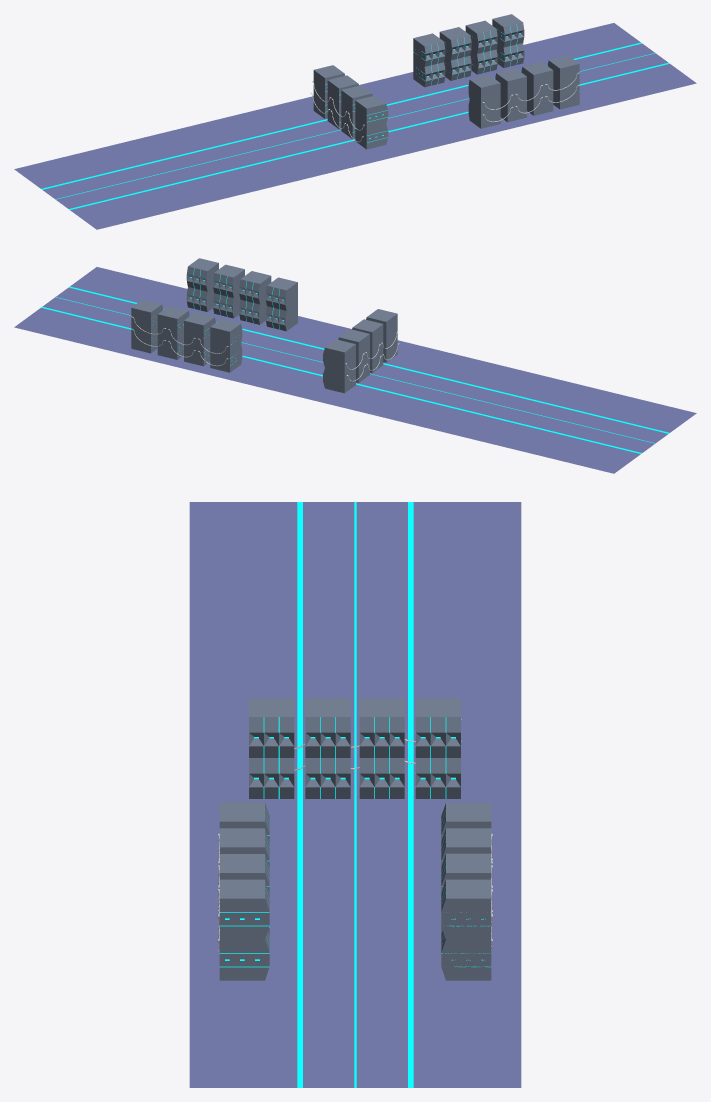
Rendered from Server.fbx.
The picture shows the model from 3 angles, top to bottom: view 1: azimuth 30°, elevation 25°; view 2: azimuth 150°, elevation 25°; view 3: azimuth 270°, elevation 25°; orthographic projection. The views are drawn at different scales.
Visible parts, largest first — view 1: Plane, Cube.024, Cube.015, Cube.017, Cube.012, Cube.019, Cube.014, Cube.013, Cube.020, Cube.018, Cube.011, Cube.003 (+10 smaller); view 2: Plane, Cube.021, Cube.015, Cube.017, Cube.018, Cube.013, Cube.012, Cube.014, Cube.020, Cube.019, Cube.003, Cube.008 (+10 smaller); view 3: Plane, Cube.012, Cube.020, Cube.021, Cube.022, Cube.023, Cube.024, Cube.007, Cube.016, Cube.008, Cube.009, Cube.010 (+7 smaller).
Part boxes in pixels (bbox=[...]): Plane: bbox=[14, 23, 696, 229]; Cube.024: bbox=[355, 95, 388, 128]; Cube.015: bbox=[413, 33, 445, 66]; Cube.017: bbox=[468, 75, 500, 108]; Cube.012: bbox=[492, 14, 524, 47]; Cube.019: bbox=[521, 62, 553, 95]; Cube.014: bbox=[439, 27, 471, 60]; Cube.013: bbox=[465, 20, 497, 53]; Cube.020: bbox=[547, 55, 579, 88]; Cube.018: bbox=[495, 68, 526, 101]; Cube.011: bbox=[355, 121, 388, 149]; Cube.003: bbox=[413, 59, 445, 87]; Plane: bbox=[14, 267, 696, 473]; Cube.021: bbox=[323, 339, 355, 372]; Cube.015: bbox=[210, 319, 242, 352]; Cube.017: bbox=[265, 277, 297, 310]; Cube.018: bbox=[239, 271, 271, 304]; Cube.013: bbox=[157, 306, 189, 339]; Cube.012: bbox=[131, 299, 163, 332]; Cube.014: bbox=[184, 312, 215, 345]; Cube.020: bbox=[186, 258, 218, 291]; Cube.019: bbox=[213, 264, 244, 297]; Cube.003: bbox=[210, 344, 242, 372]; Cube.008: bbox=[323, 365, 355, 393]; Plane: bbox=[189, 502, 521, 1087]; Cube.012: bbox=[441, 879, 491, 939]; Cube.020: bbox=[219, 879, 269, 939]; Cube.021: bbox=[415, 698, 460, 757]; Cube.022: bbox=[359, 698, 404, 757]; Cube.023: bbox=[305, 698, 350, 757]; Cube.024: bbox=[249, 698, 294, 757]; Cube.007: bbox=[219, 930, 269, 980]; Cube.016: bbox=[441, 931, 491, 980]; Cube.008: bbox=[415, 758, 460, 798]; Cube.009: bbox=[359, 758, 404, 798]; Cube.010: bbox=[305, 758, 350, 798].
Bounding box in the file's own units: 6124 × 400 × 1464.
